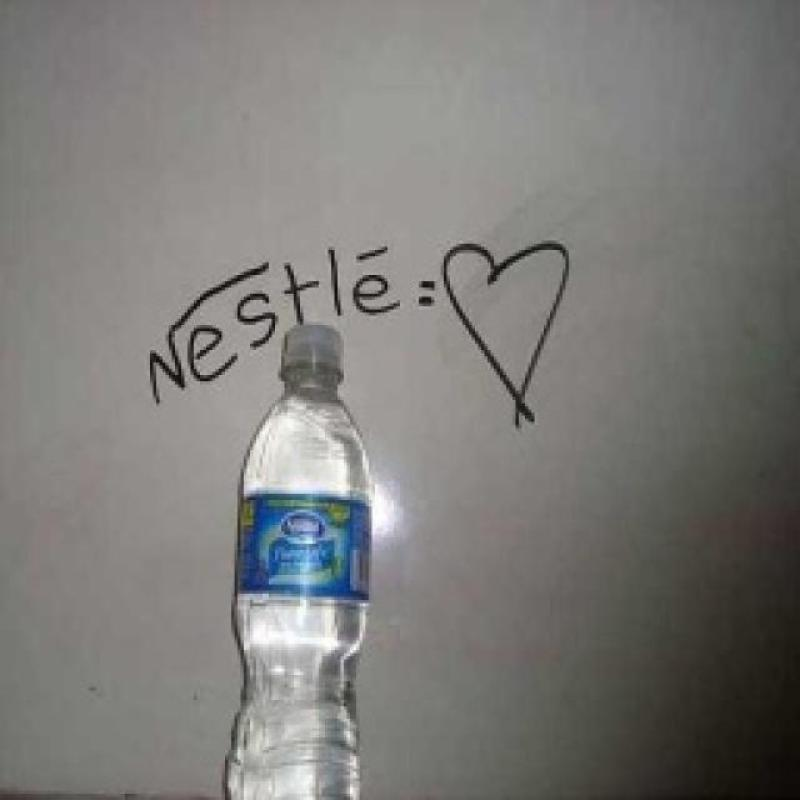botella: (225, 321, 371, 800)
